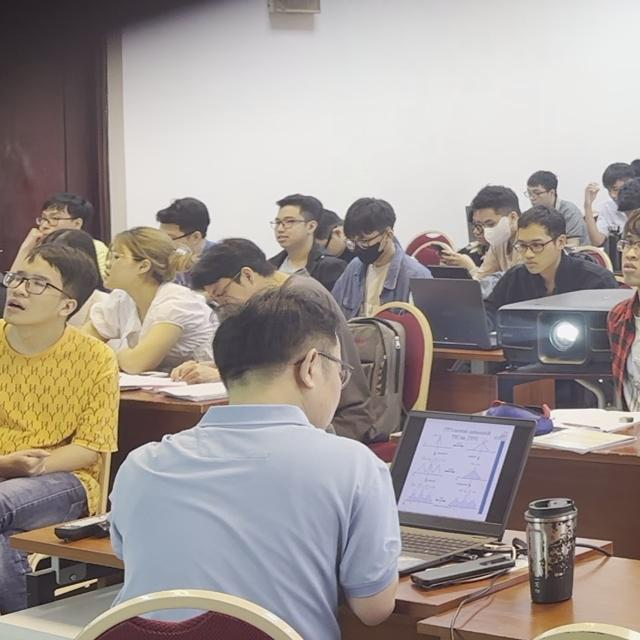Looking away: (515, 221, 552, 276), (346, 226, 390, 267), (474, 203, 509, 247), (526, 180, 552, 211)
Looking forward: (2, 261, 60, 328), (99, 241, 139, 292), (269, 205, 305, 250)
